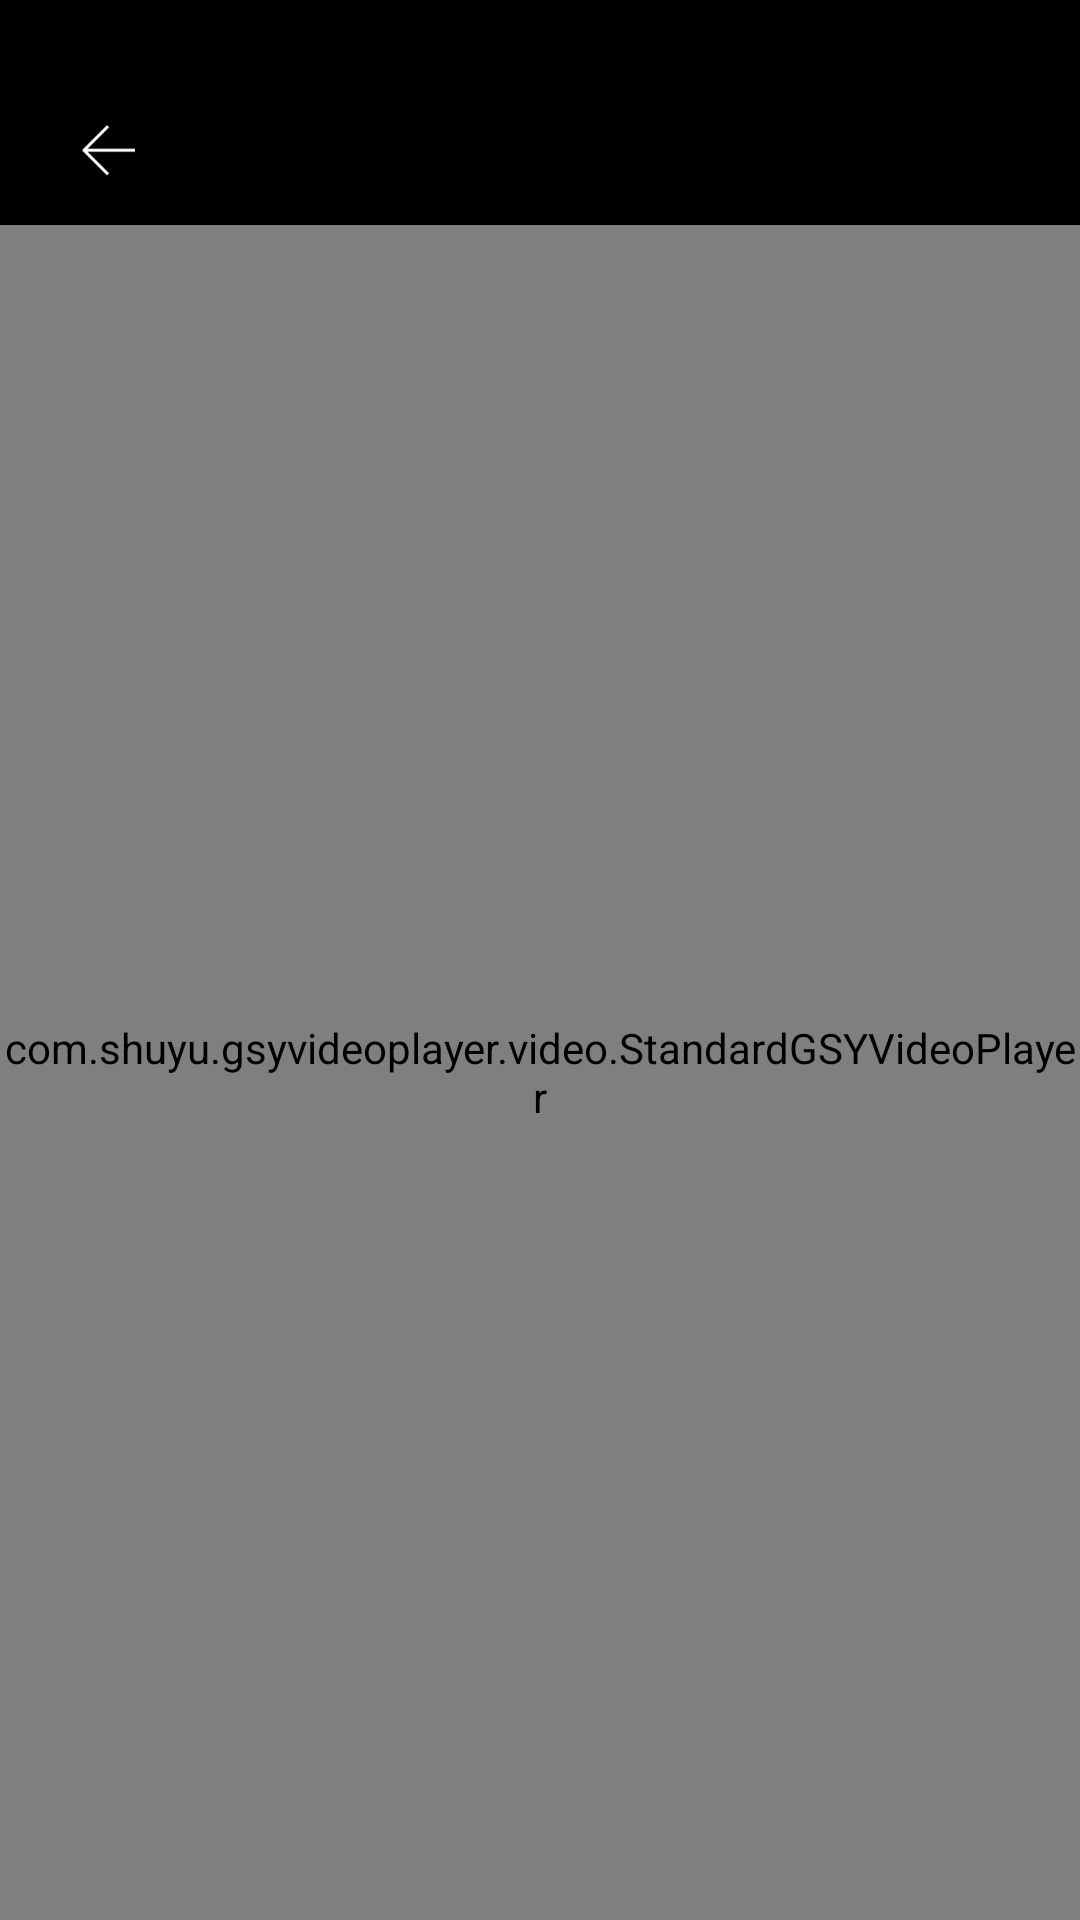

Icons on this 1080w x 1920h Android screen, each with its box as (x1=x1, y1=y1, x2=x2, y2=y2):
back: (x1=82, y1=125, x2=135, y2=176)
